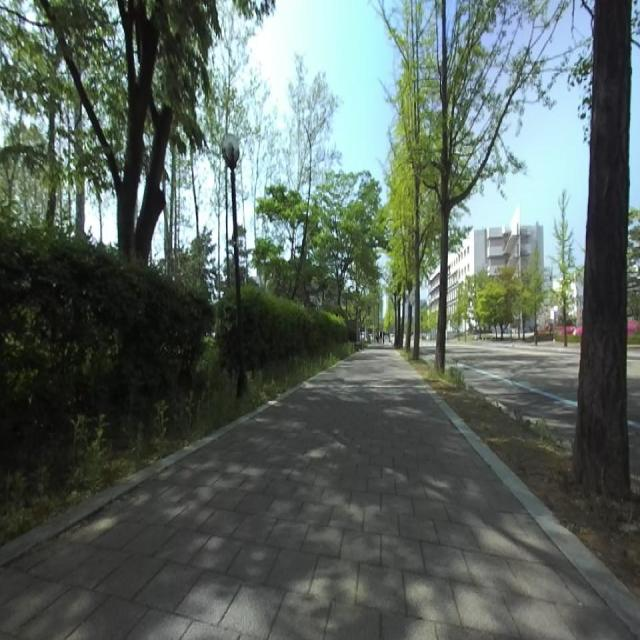sidewalk: (0, 344, 640, 638)
